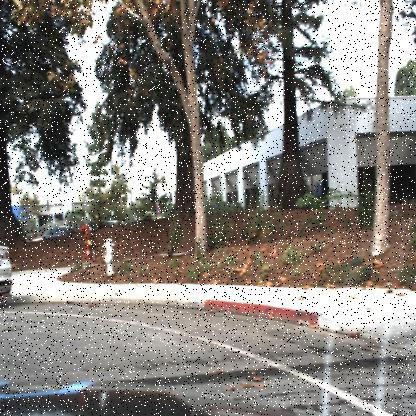car: (0, 238, 16, 306)
